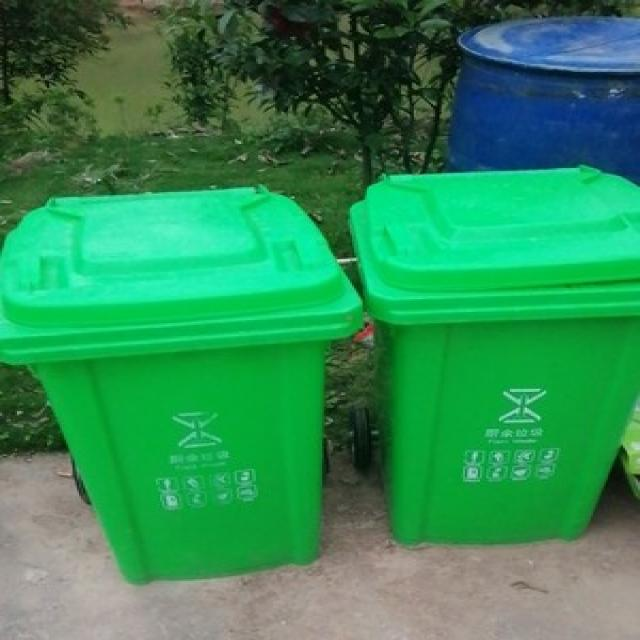ash bin: (4, 182, 363, 581), (345, 165, 638, 549)
